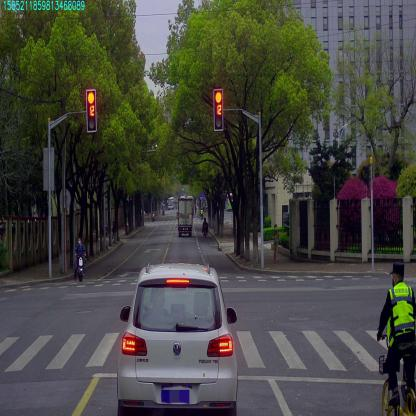traffic-light: (86, 90, 96, 132), (214, 90, 223, 130)
